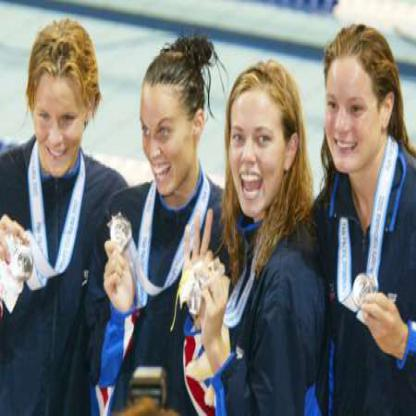face: (322, 31, 386, 177), (228, 72, 289, 220), (140, 58, 195, 198), (36, 40, 89, 180)
